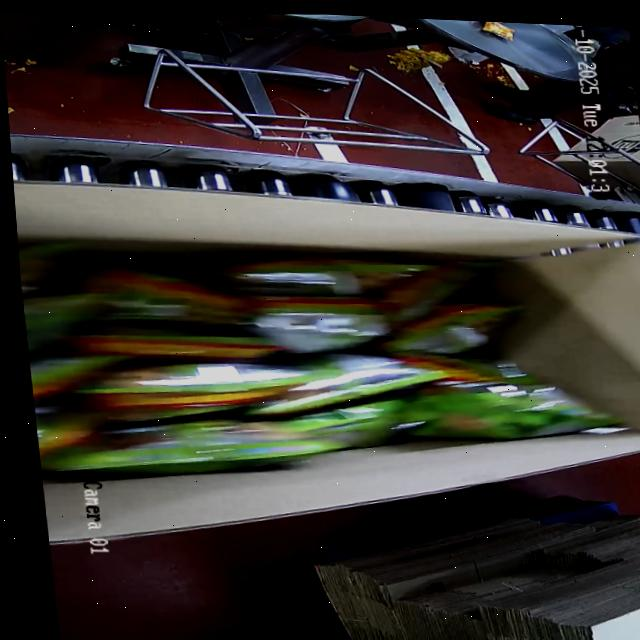YOGURT_HERB: (17, 231, 579, 484)
